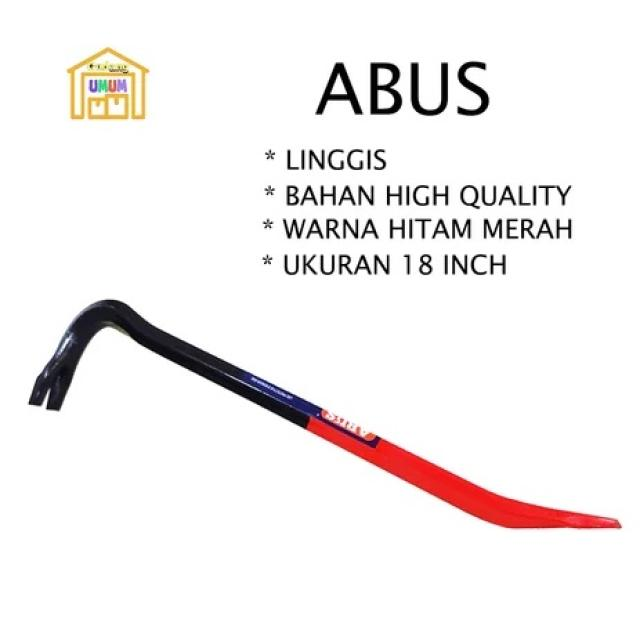Linggis: (30, 295, 623, 539)
